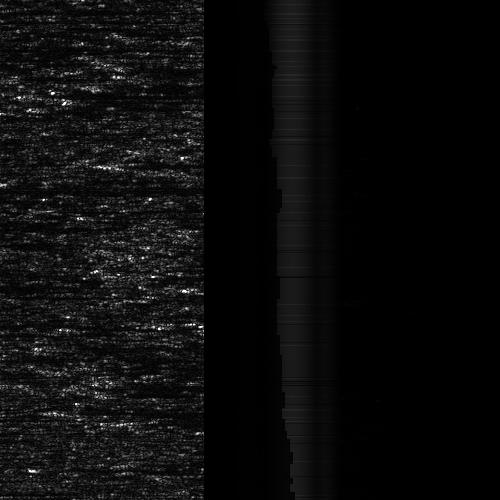rock: (29, 406, 82, 413)
shadow: (0, 177, 183, 196), (0, 244, 17, 289), (0, 327, 68, 338), (56, 406, 145, 413)
